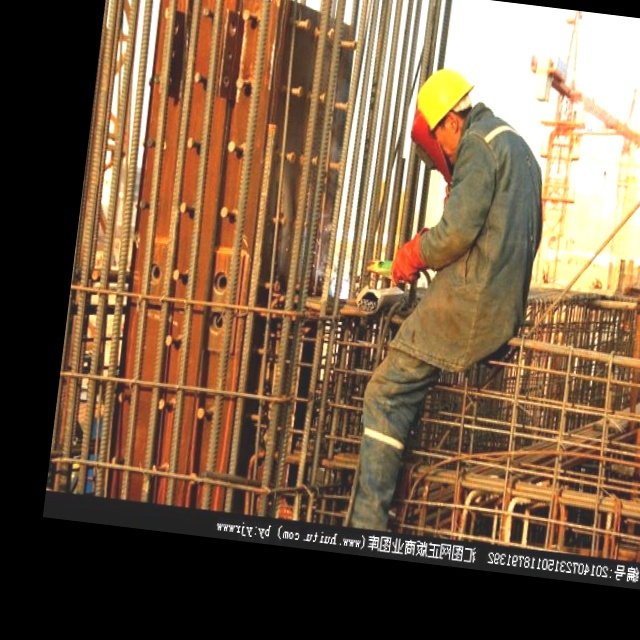Con_Casco: (412, 66, 474, 155)
